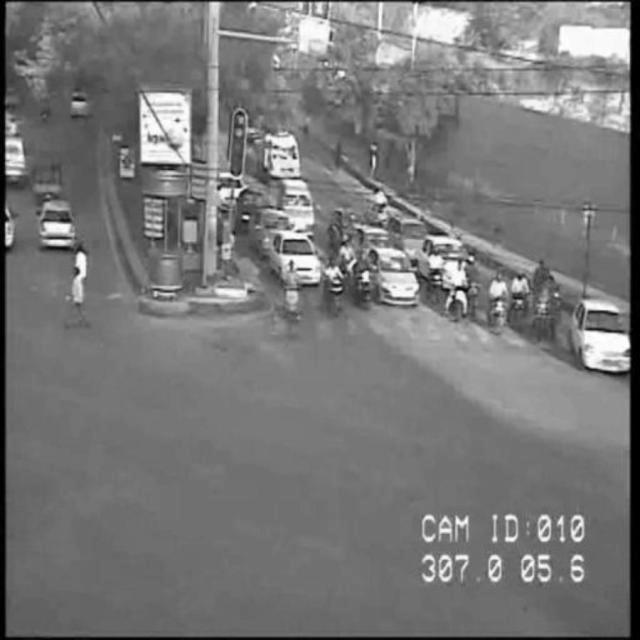person: (71, 266, 86, 328)
vehicle: (570, 301, 628, 375), (274, 227, 320, 287), (375, 247, 420, 307), (38, 202, 76, 254), (492, 268, 509, 339), (285, 259, 302, 323), (327, 257, 344, 317), (452, 265, 469, 319), (515, 267, 530, 327)
